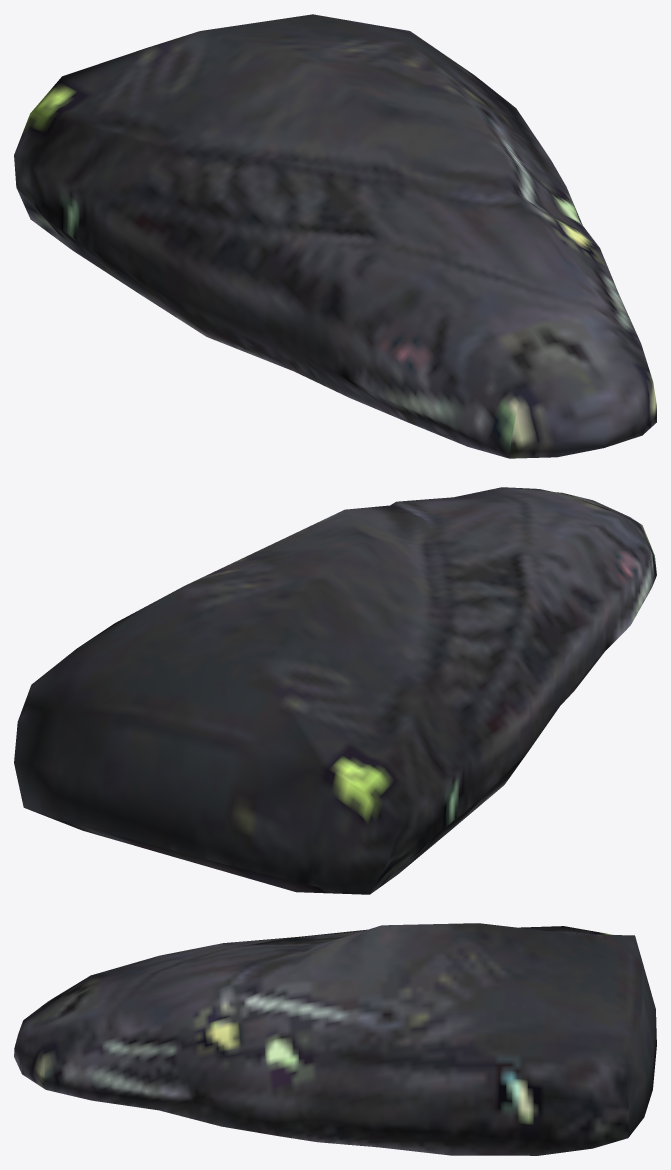
File: Pickup_BackpackA.glb
The picture shows the model from 3 angles, top to bottom: view 1: azimuth 30°, elevation 25°; view 2: azimuth 150°, elevation 25°; view 3: azimuth 270°, elevation 25°; orthographic projection. The views are drawn at different scales.
Visible parts, largest first — view 1: pk_backpack_a; view 2: pk_backpack_a; view 3: pk_backpack_a.
Boxes of the visible parts, x1=… form: pk_backpack_a: x1=14, y1=14, x2=656, y2=458; pk_backpack_a: x1=14, y1=487, x2=656, y2=894; pk_backpack_a: x1=14, y1=923, x2=656, y2=1155.
Bounding box in the file's own units: 0.4534 × 0.2157 × 0.7955.
1 material, 1 textured.
